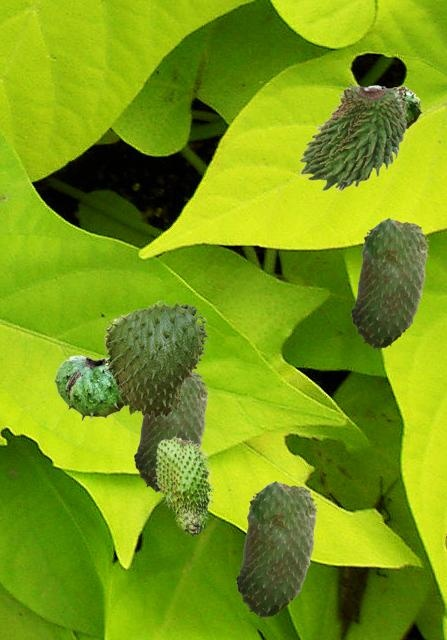guyabano: (104, 300, 209, 420), (298, 81, 407, 190), (235, 480, 317, 618), (350, 217, 428, 349), (133, 371, 208, 492), (154, 436, 213, 536), (54, 355, 123, 420), (369, 85, 421, 129)
